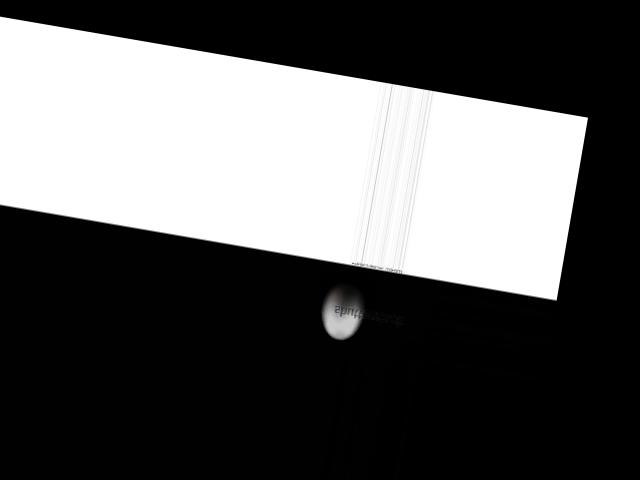egg: (316, 278, 368, 343)
